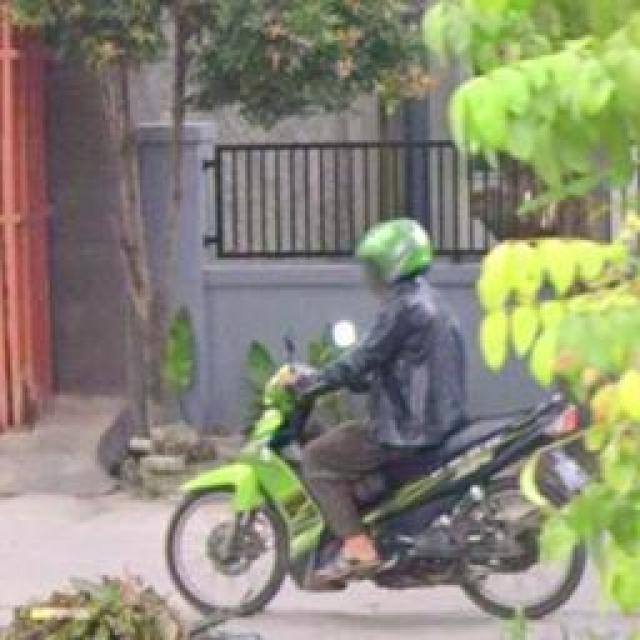motorbike: (166, 219, 600, 640)
